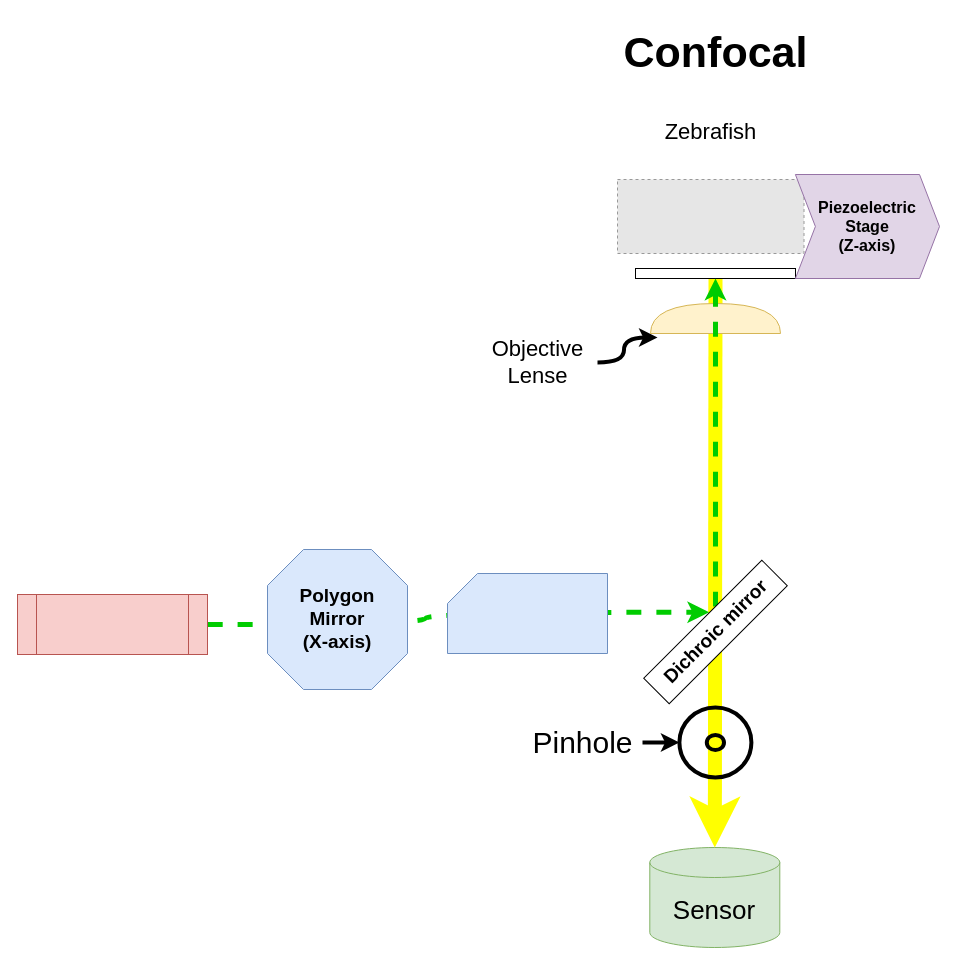
This 957x965 diagram has some shape labels left out. Grey dashed boxes stand in for pictures. Each missing label, with the box of its shape:
Galvano Mirror (Y-axis): (446, 572, 608, 654)
Laser: (16, 594, 208, 654)
